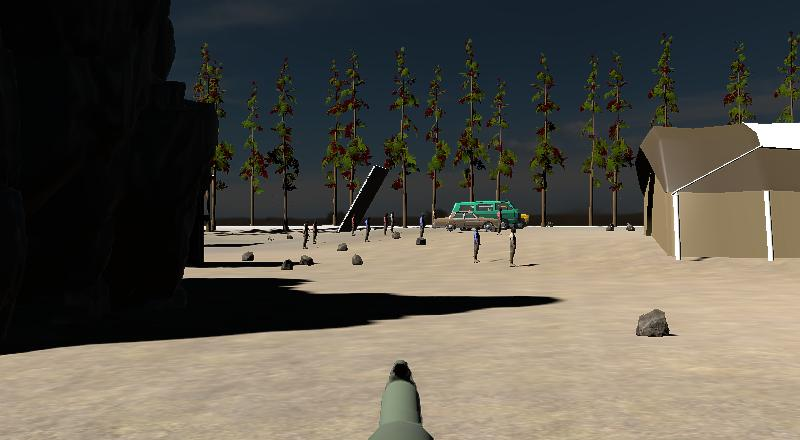Human: (508, 225, 519, 268), (418, 213, 428, 241), (390, 209, 398, 234), (302, 220, 309, 248), (365, 217, 372, 243), (313, 219, 319, 246), (351, 215, 358, 237)
car: (451, 200, 522, 227), (451, 202, 523, 227), (430, 212, 502, 232)
